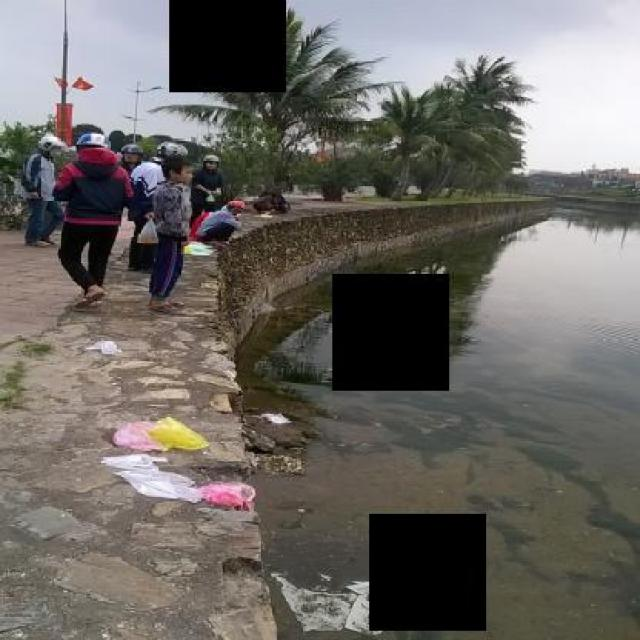plastic bag: (269, 572, 426, 640), (100, 457, 262, 508), (106, 414, 219, 455), (136, 215, 166, 248), (85, 335, 129, 357), (182, 240, 216, 258)
